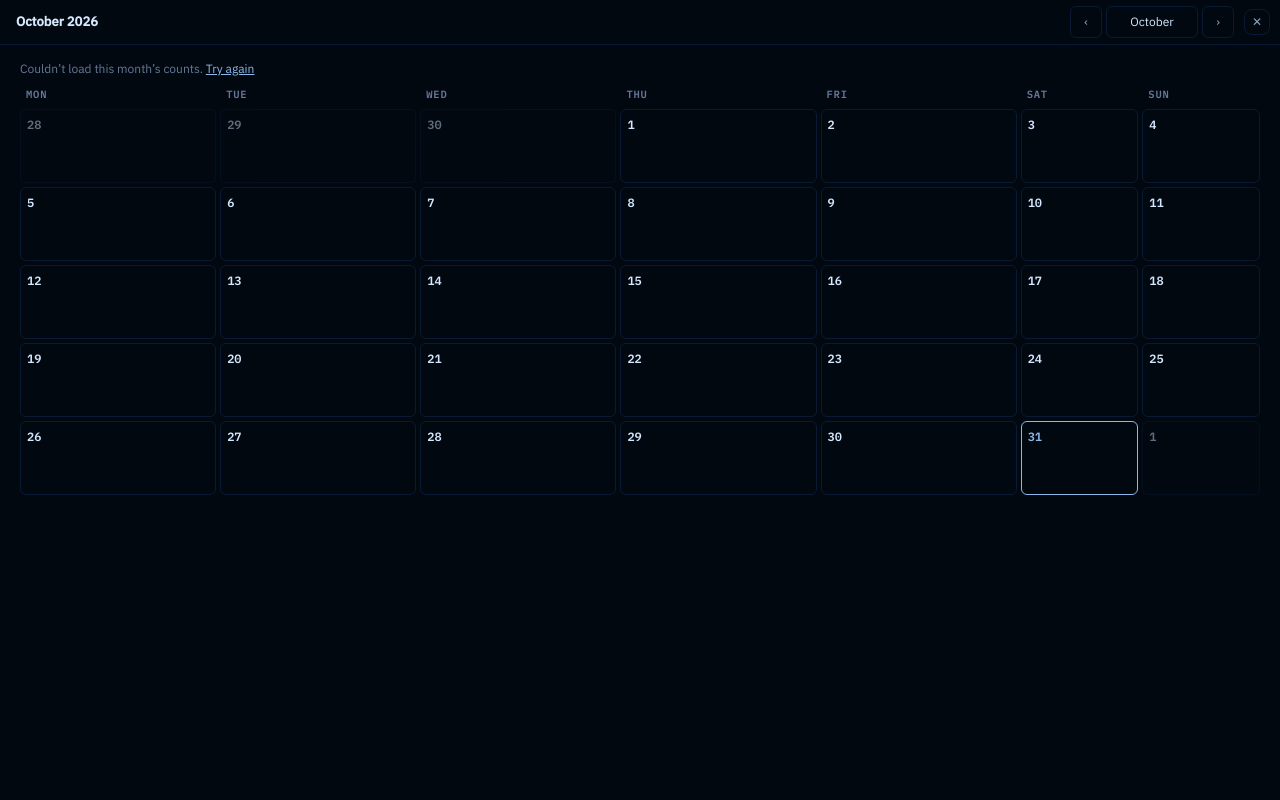
CalendarPanel › reports a failed month and retries on request
Expected: the text "Couldn’t load this month’s counts. Try again" is shown, [20,59,254,78]
Step 1. Click the button "Try again" → (230, 69), box [206,59,254,78]
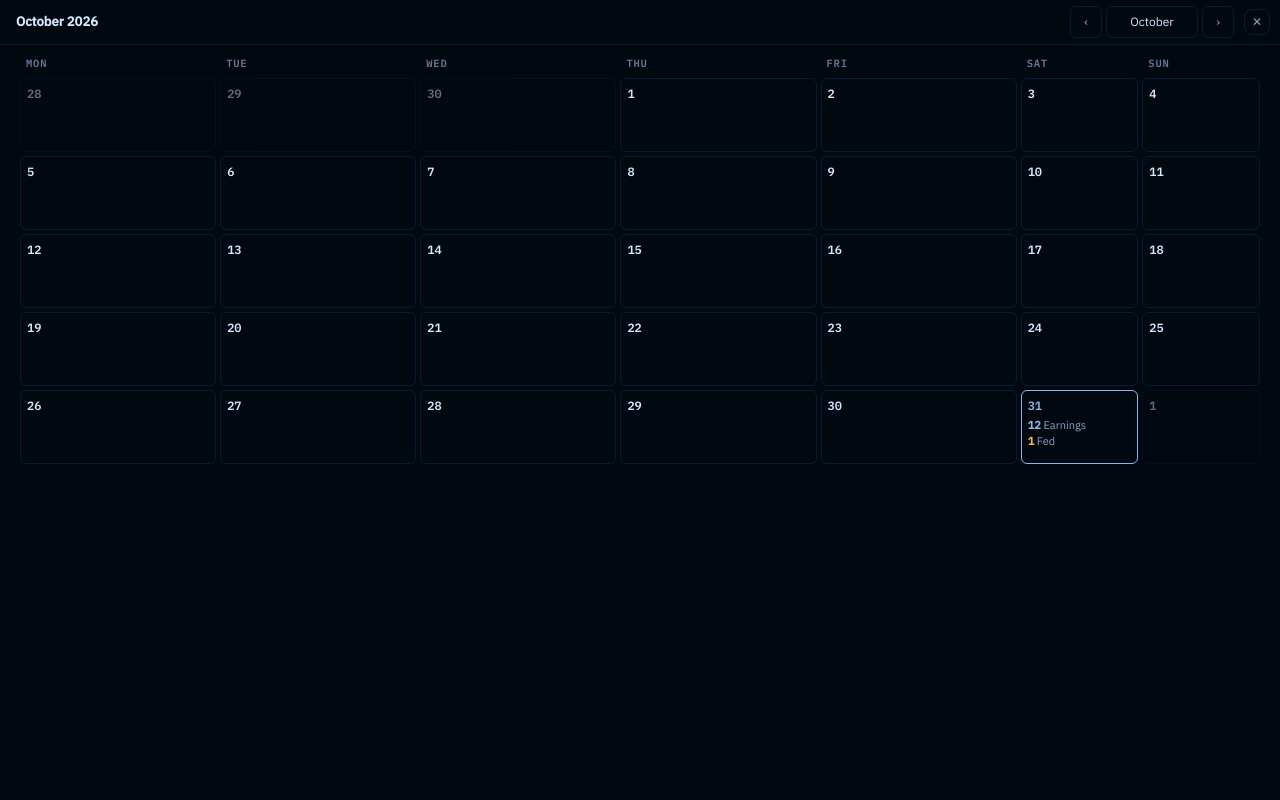
Now the text "Couldn’t load this month" is gone
